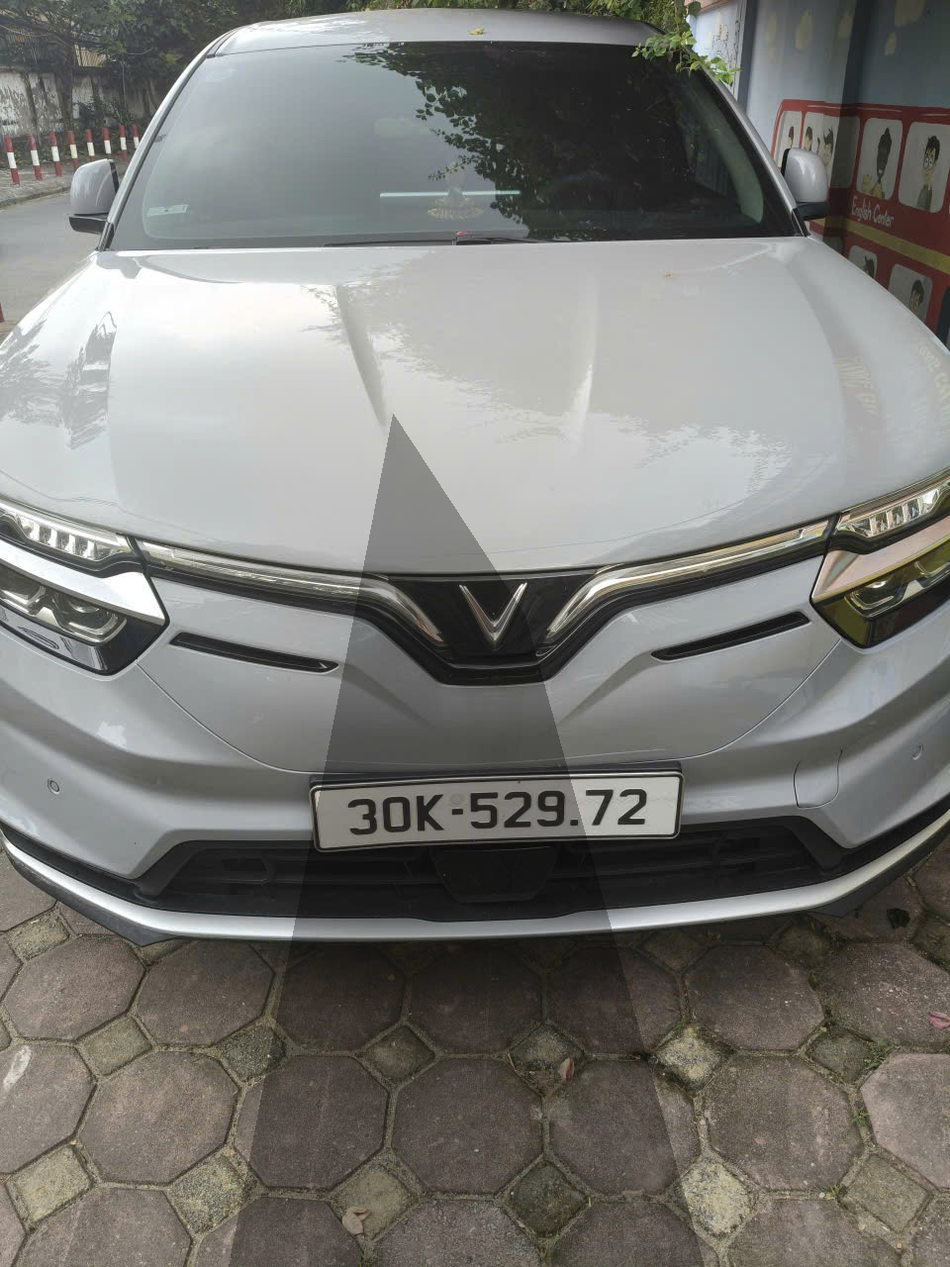plate: (32, 543, 107, 570)
